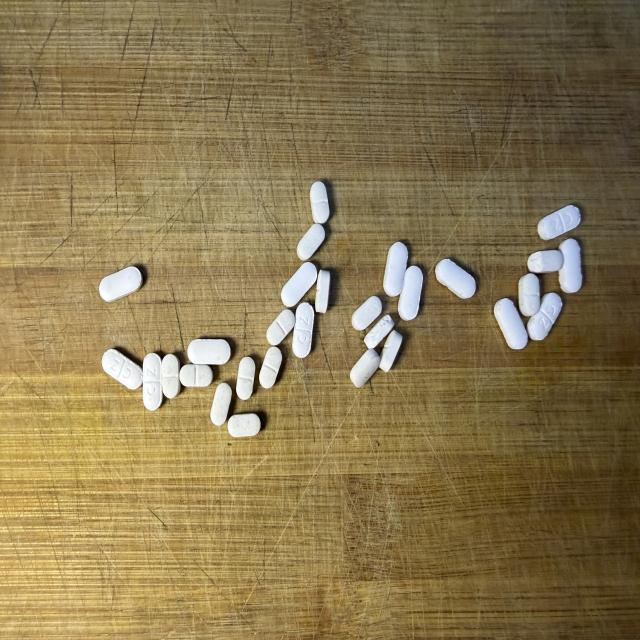pill: (494, 299, 528, 349), (527, 293, 562, 340), (102, 349, 142, 389), (435, 259, 476, 298), (281, 263, 317, 307), (99, 267, 142, 302), (538, 205, 580, 240), (398, 266, 422, 320), (559, 239, 582, 293), (384, 242, 407, 296), (293, 303, 314, 358), (350, 349, 380, 387), (143, 353, 162, 411), (188, 339, 230, 364), (352, 296, 382, 330), (297, 224, 325, 260), (364, 315, 394, 348), (267, 309, 294, 345), (259, 346, 282, 388), (379, 331, 402, 372), (519, 273, 540, 316), (211, 383, 231, 426), (310, 181, 330, 224), (528, 250, 563, 273), (236, 357, 255, 399), (162, 354, 180, 398), (180, 364, 213, 387), (228, 414, 260, 437), (315, 270, 330, 313)
